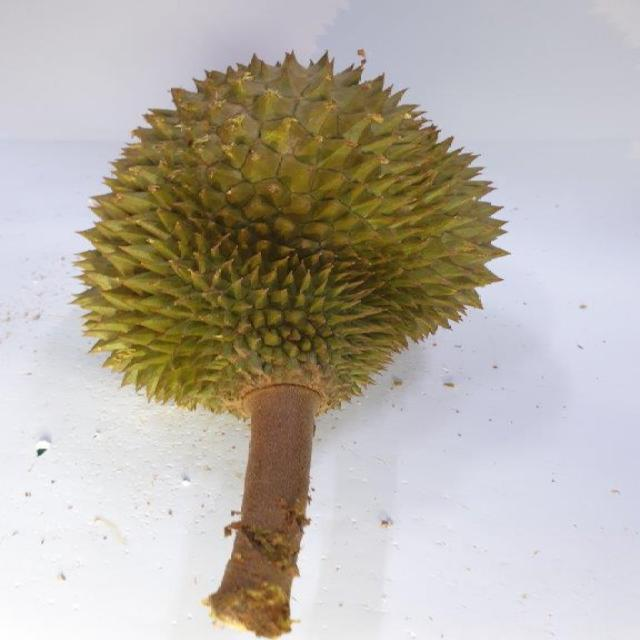mature: (67, 48, 514, 426)
